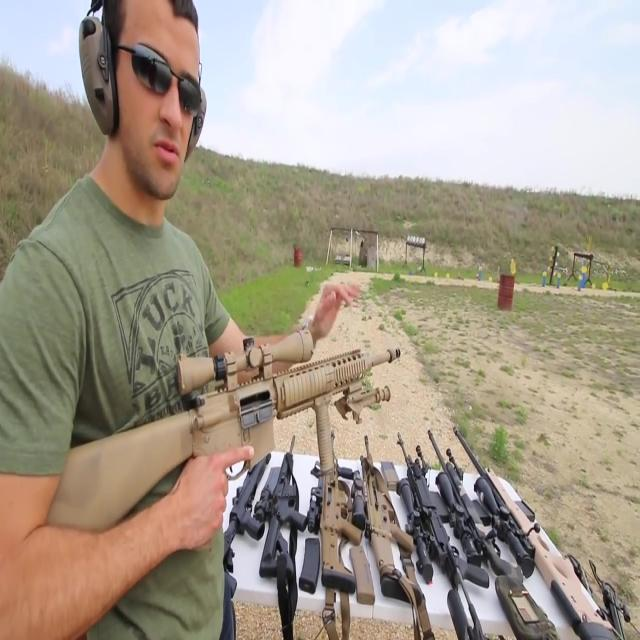Weapon: (0, 308, 410, 578), (187, 387, 601, 640)
